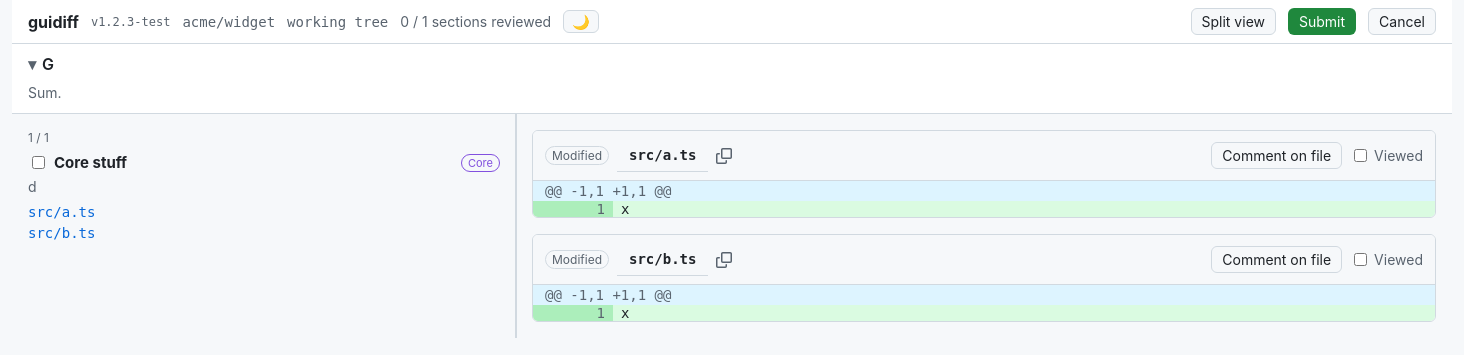
Test case: App › checking a section marks all of its files viewed
Step 1. Click the 1st checkbox → (38, 162), box [32, 156, 45, 169]
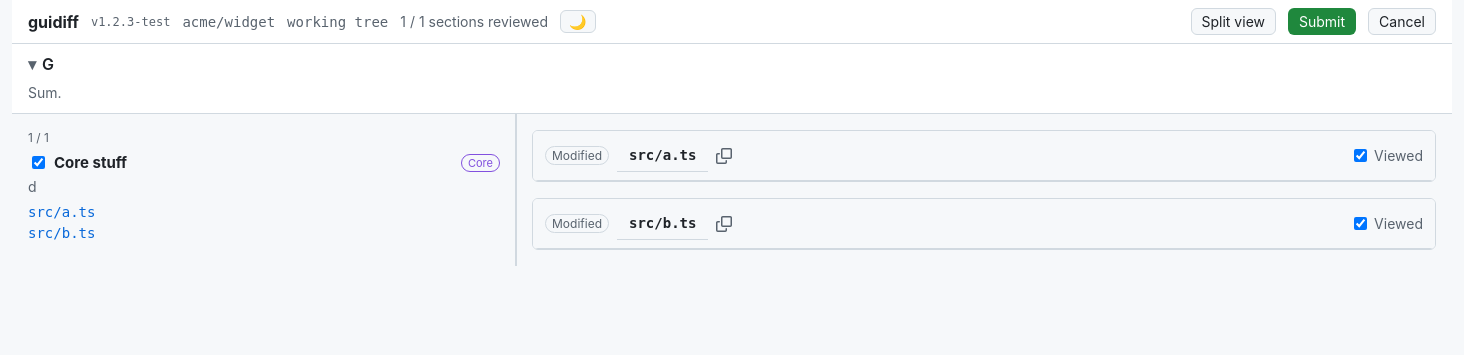
Check: the 1st checkbox labelled "Viewed" is checked, box [1354, 149, 1367, 162]
Check: the 2nd checkbox labelled "Viewed" is checked, box [1354, 217, 1367, 230]
Check: the text "1 / 1 sections reviewed" is shown, box [400, 13, 548, 30]
